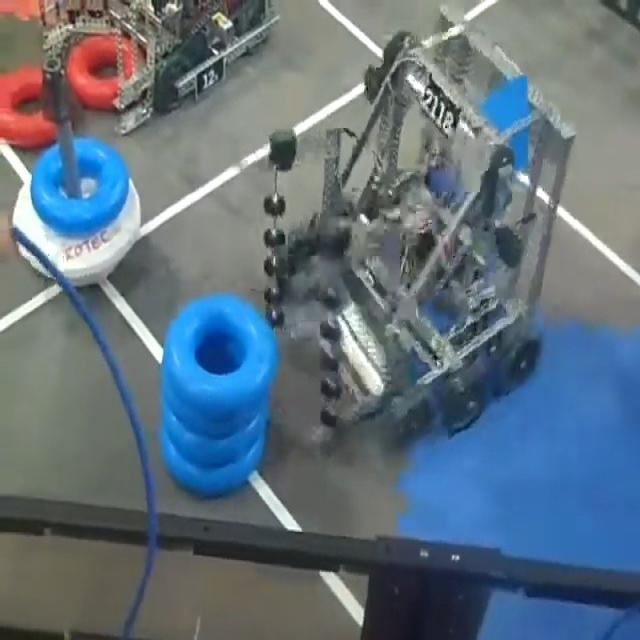Blue-Ring: (162, 298, 278, 418), (32, 137, 129, 236), (161, 427, 265, 496), (162, 405, 268, 468), (162, 382, 268, 438)
Red-Ring: (66, 35, 134, 110), (0, 67, 56, 148)
